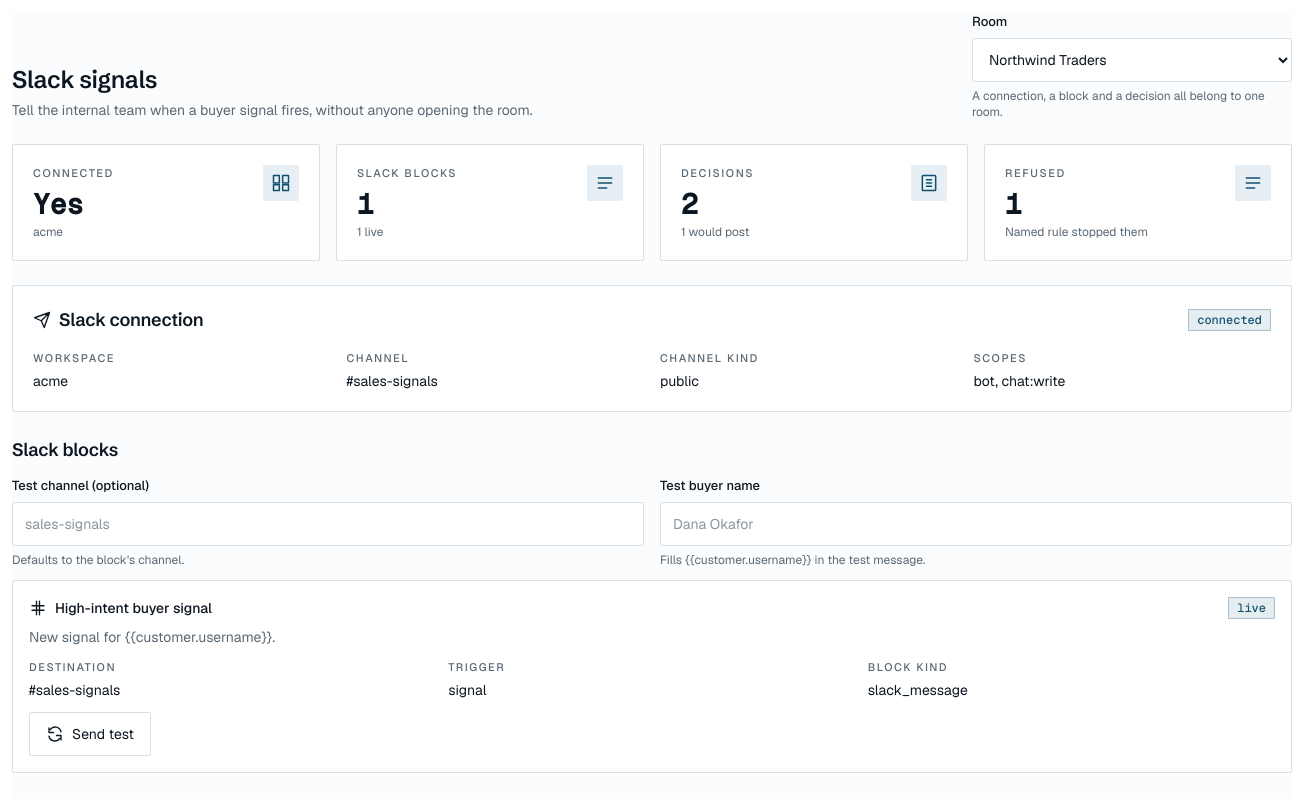
Scenario: the page › records a test send and reports the decision
The image size is (1304, 799).
Check: the heading "Slack signals" is shown, box [12,65,157,94]
Type "Dana" into the field labelled "Test buyer name" at (976, 524), box [660,502,1292,546]
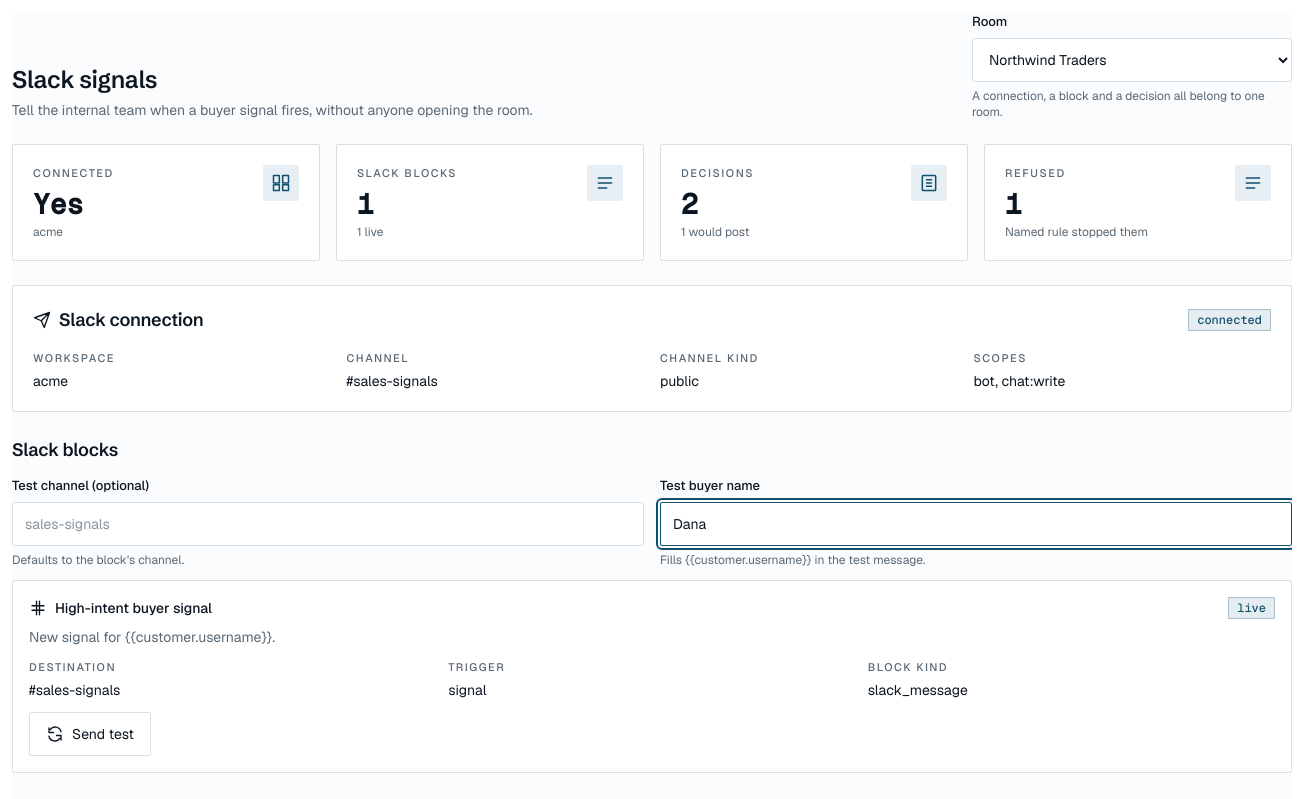
Click the button "Send test" at (90, 734), box [29,712,151,756]
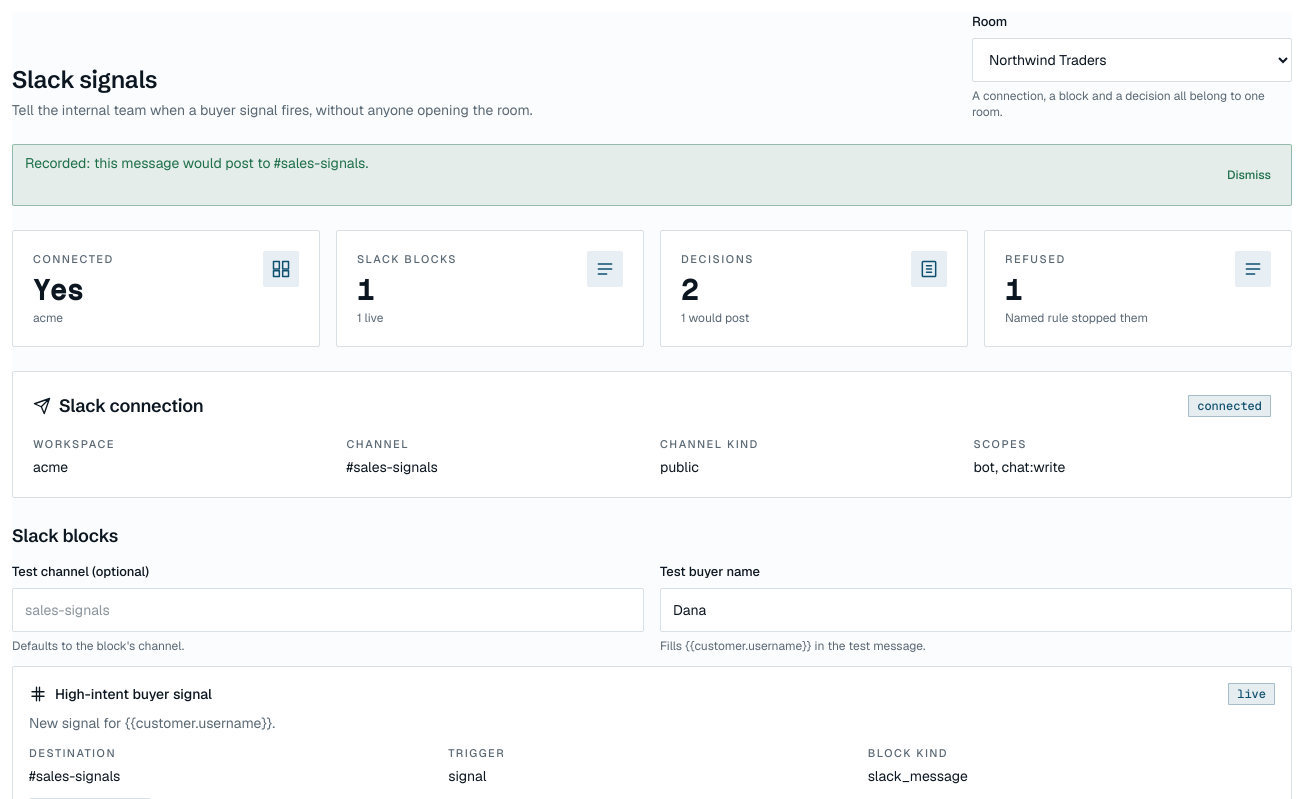
Check: the text "Recorded: this message would post to #sales-signals." is shown, box [25,153,368,173]
